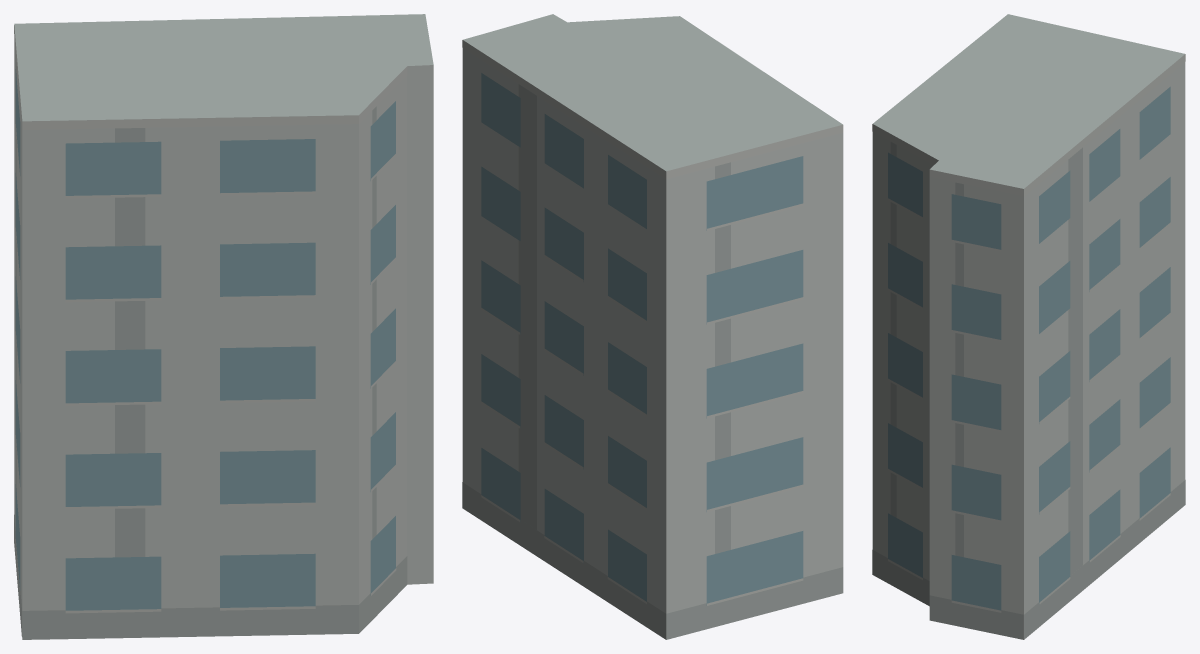
Rendered from survey-upis-32727962.glb.
The picture shows the model from 3 angles, left to right: view 1: azimuth 30°, elevation 25°; view 2: azimuth 150°, elevation 25°; view 3: azimuth 270°, elevation 25°; orthographic projection. The views are drawn at different scales.
Visible parts, largest first — view 1: survey-upis-32727962.tmp; view 2: survey-upis-32727962.tmp; view 3: survey-upis-32727962.tmp.
Boxes of the visible parts, x1,y1,x2,y2 form: survey-upis-32727962.tmp: [14, 14, 433, 639]; survey-upis-32727962.tmp: [462, 14, 843, 639]; survey-upis-32727962.tmp: [872, 14, 1185, 639].
Bounding box in the file's own units: 11.91 × 14.3 × 9.
